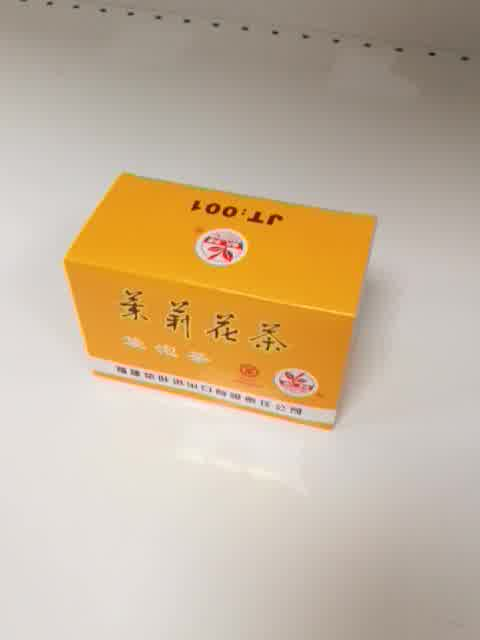jasminetea: (65, 171, 379, 431)
